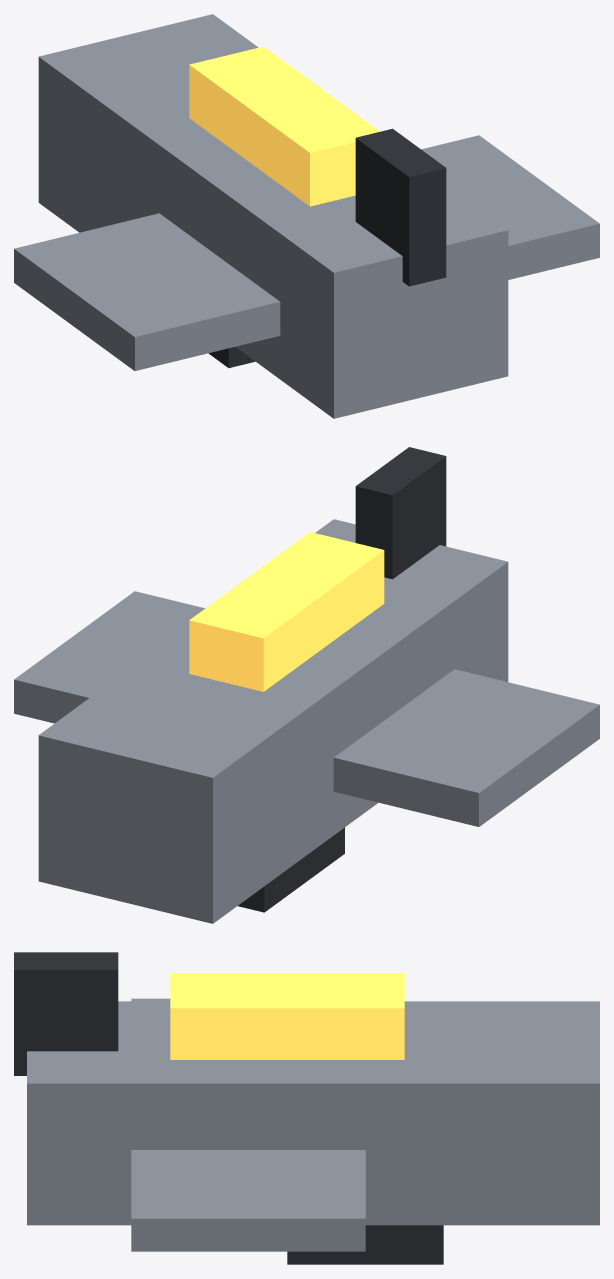
File: plektor_strike_bomber.glb
The picture shows the model from 3 angles, top to bottom: view 1: azimuth 30°, elevation 25°; view 2: azimuth 150°, elevation 25°; view 3: azimuth 270°, elevation 25°; orthographic projection. The views are drawn at different scales.
Visible parts, largest first — view 1: hull; view 2: hull; view 3: hull.
Part boxes in pixels (left/top/right/bottom): hull: left=14, top=14, right=599, bottom=418; hull: left=14, top=447, right=599, bottom=923; hull: left=14, top=952, right=599, bottom=1264.
Size of the model in its own units: 10.4 by 6.08 by 11.7.
